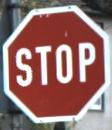Stop sign: (0, 0, 111, 129)
